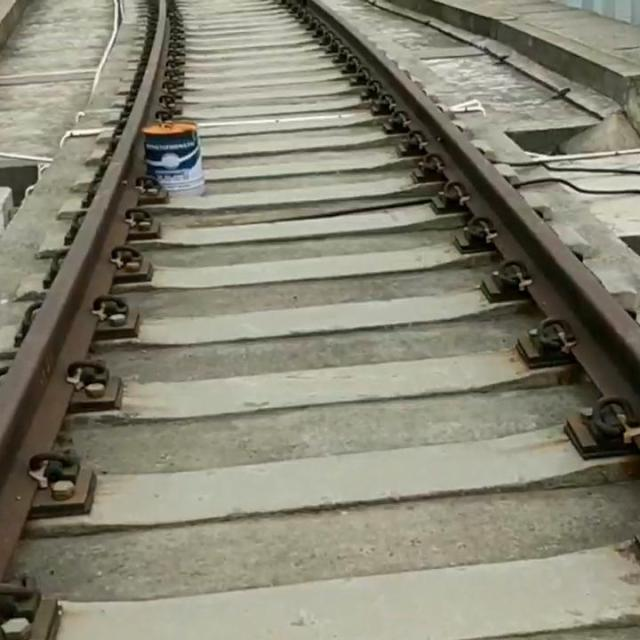rail: (308, 1, 640, 425), (1, 1, 171, 581)
